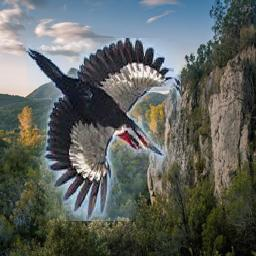Woodpecker: (27, 39, 182, 222)
